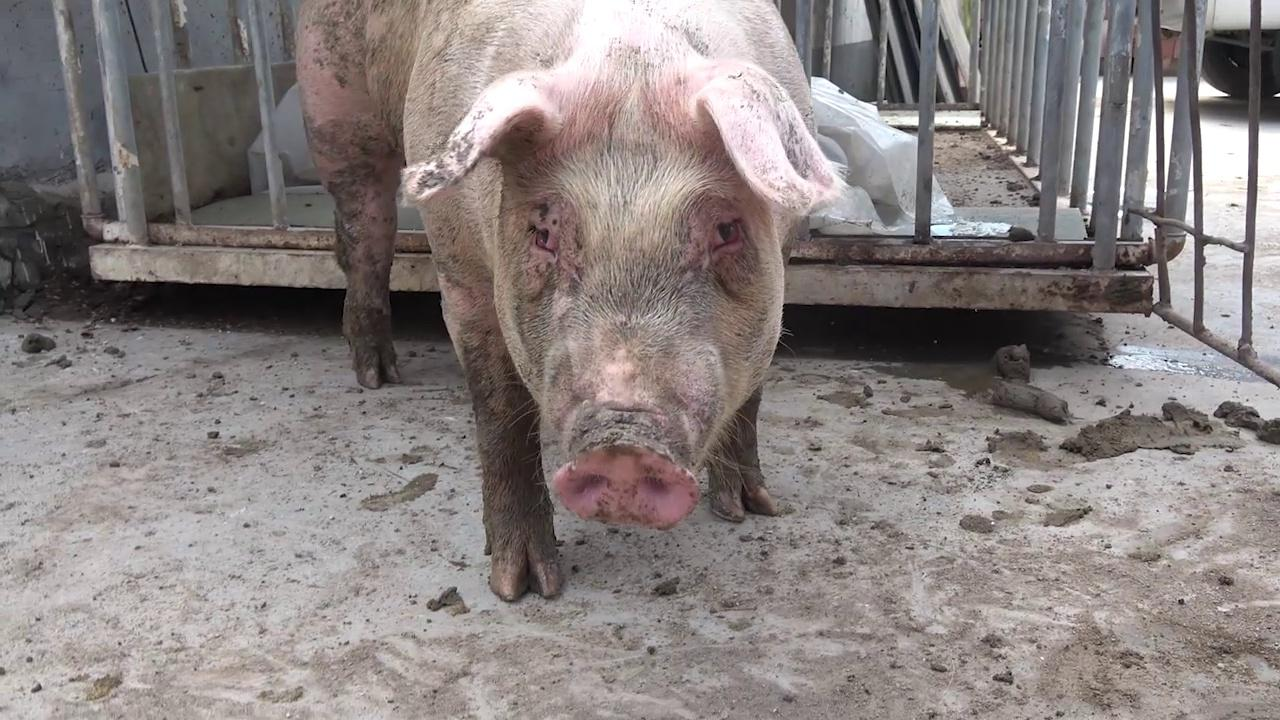Face: (392, 60, 864, 554)
